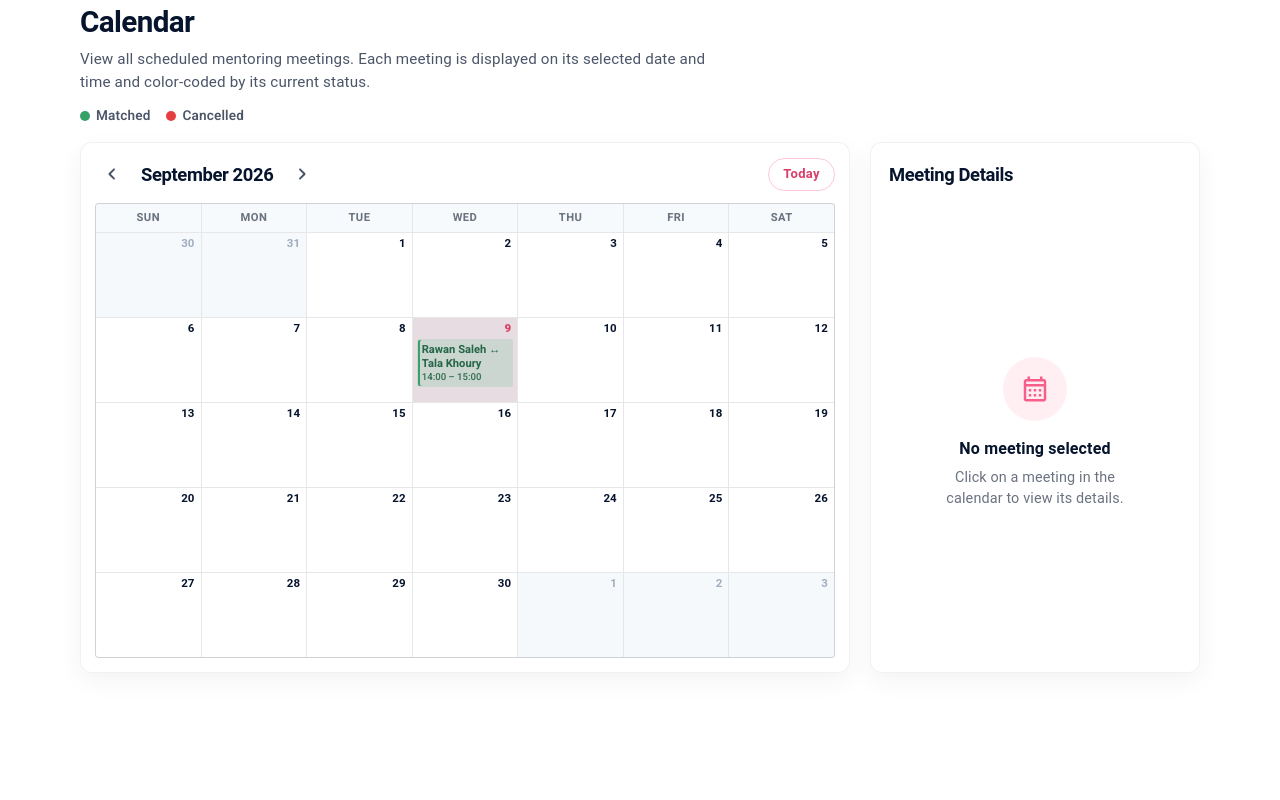
it: AdminCalendarPage › Meeting Details shows spaced display names for underscored usernames
Click the button "Rawan Saleh ↔ Tala Khoury 14:00 – 15:00" at (465, 363), box [417,339,513,387]
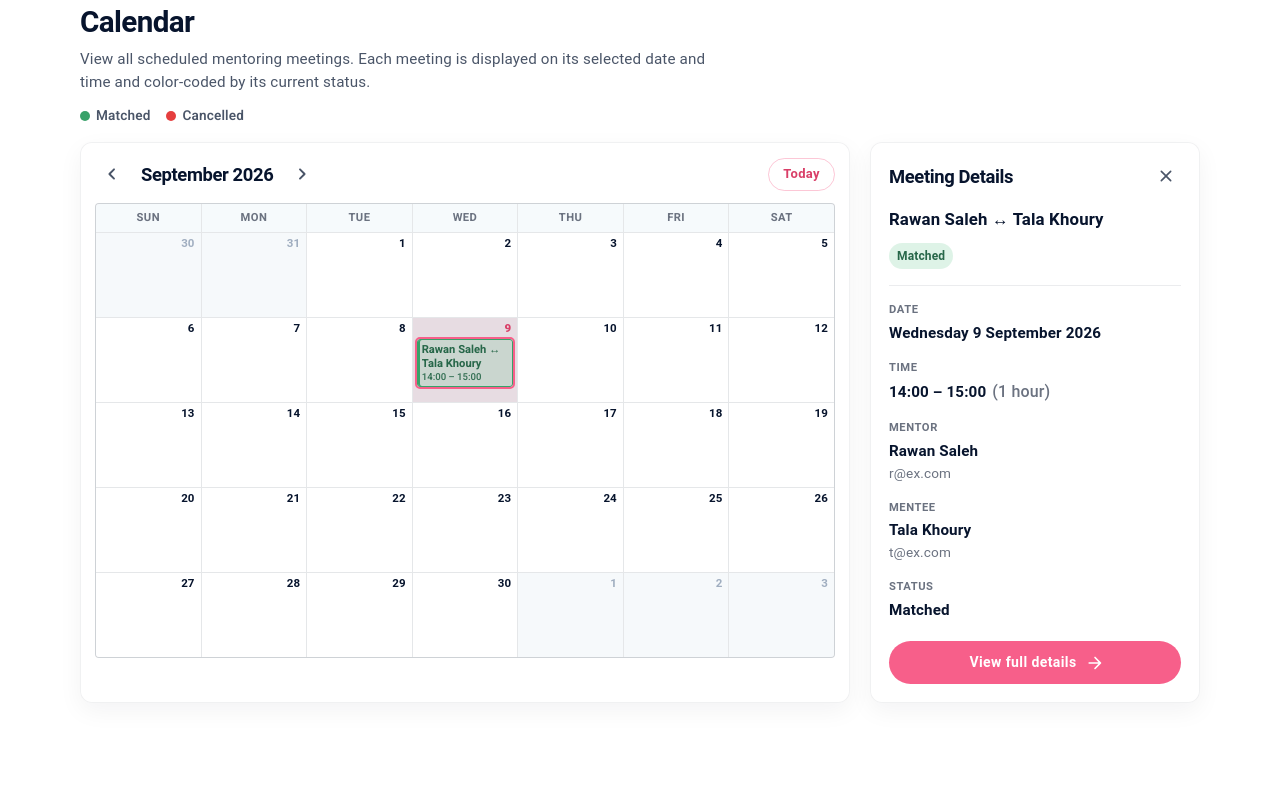
Expected: the text "Rawan Saleh" is shown, [889,442,978,460]
Expected: the text "Tala Khoury" is shown, [889,522,971,540]
